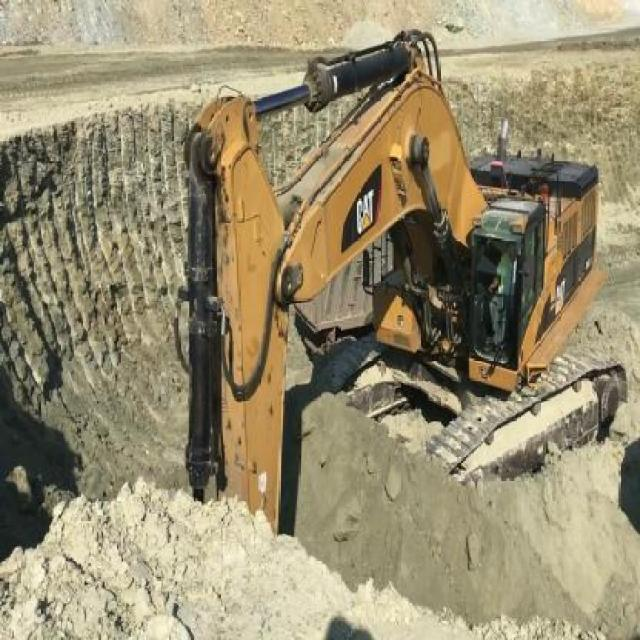Excavator: (177, 28, 631, 534)
